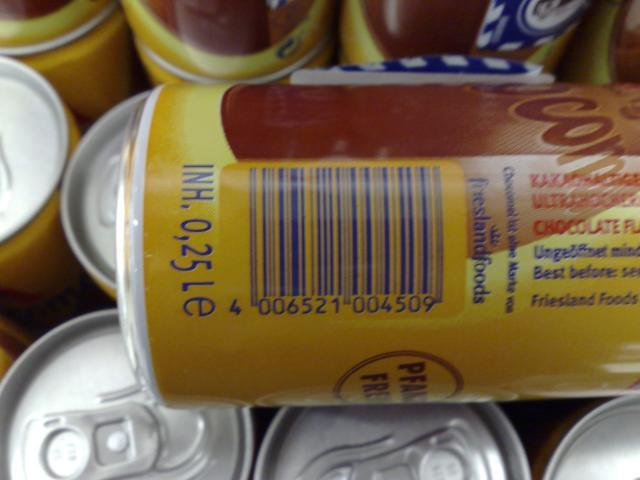Barcode: (224, 164, 459, 319)
